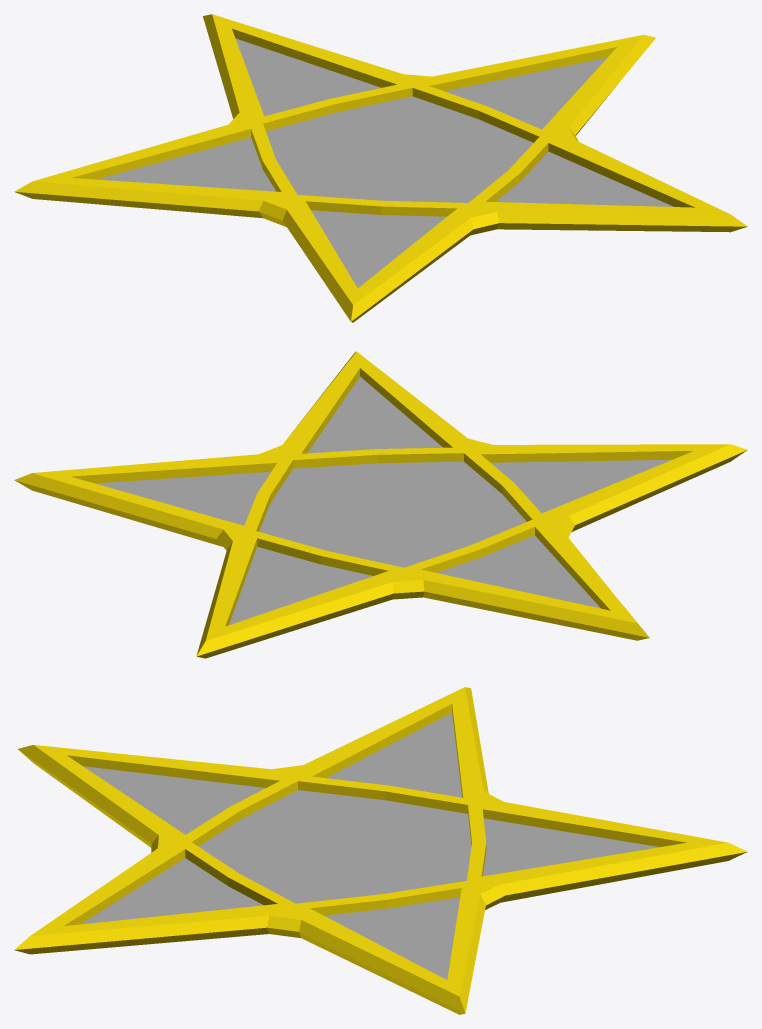
The model's file is star_A_divide.fbx.
3 views of the same model, one above another, from view 1: azimuth 30°, elevation 25°; view 2: azimuth 150°, elevation 25°; view 3: azimuth 270°, elevation 25° (orthographic). The views are drawn at different scales.
Parts seen in each view (by area): view 1: frame, glass_center, glass_4, glass_1, glass_2, glass_5, glass_3; view 2: frame, glass_center, glass_3, glass_1, glass_5, glass_4, glass_2; view 3: frame, glass_center, glass_5, glass_2, glass_4, glass_1, glass_3.
Part boxes in pixels (box(x1,y1,x2,y2)): frame: box(14, 14, 747, 322); glass_center: box(266, 96, 533, 202); glass_4: box(311, 210, 446, 288); glass_1: box(235, 38, 381, 116); glass_2: box(445, 57, 607, 129); glass_5: box(97, 137, 275, 191); glass_3: box(496, 151, 673, 206); frame: box(14, 351, 747, 658); glass_center: box(259, 461, 526, 567); glass_3: box(307, 376, 442, 453); glass_1: box(229, 547, 372, 625); glass_5: box(436, 535, 600, 608); glass_4: box(491, 459, 671, 513); glass_2: box(95, 471, 270, 525); frame: box(14, 687, 747, 1014); glass_center: box(198, 790, 471, 903); glass_5: box(326, 713, 462, 797); glass_2: box(324, 897, 460, 979); glass_4: box(83, 766, 265, 834); glass_1: box(483, 818, 659, 876); glass_3: box(81, 858, 263, 924).
Bounding box in the file's own units: 9.7 × 0.2551 × 9.25.
